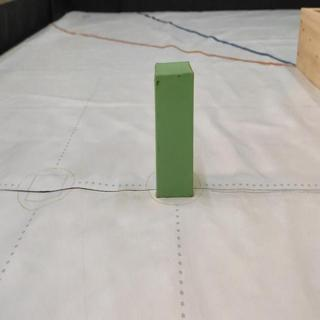greenbox: (155, 61, 195, 200)
